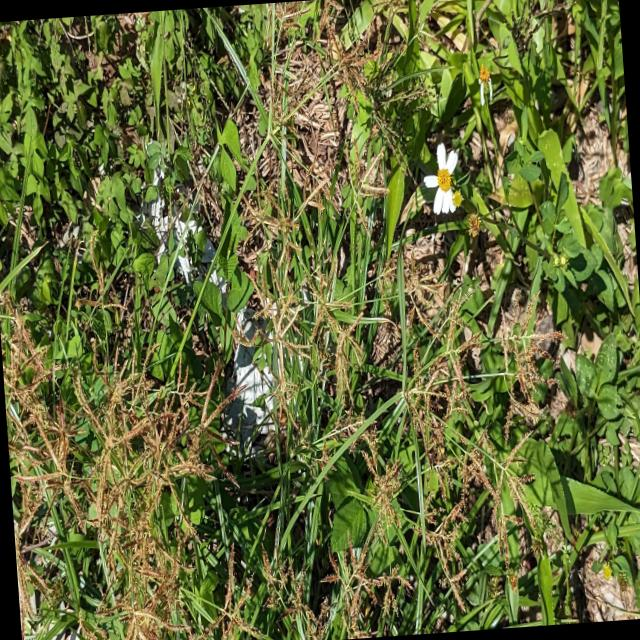cyperus: (0, 276, 230, 640), (322, 309, 574, 639), (66, 344, 225, 640), (0, 288, 86, 640), (284, 0, 418, 136), (252, 532, 391, 640), (234, 281, 315, 430), (230, 154, 315, 288), (328, 129, 398, 249)
